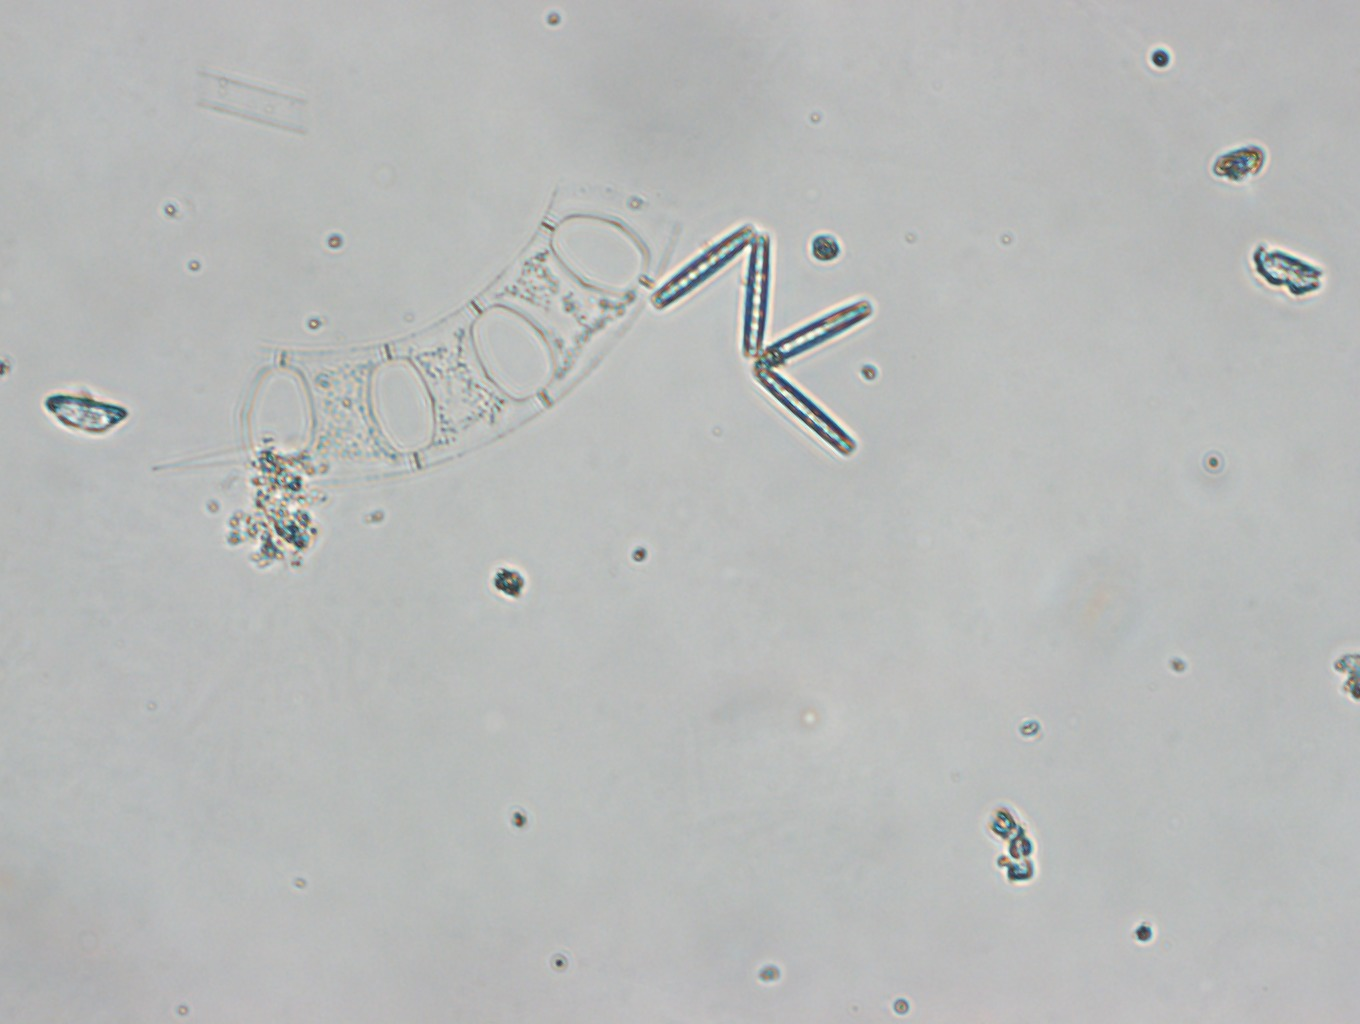eucampia: (244, 185, 670, 478)
thalassionema nitzschioides: (653, 224, 871, 459)
